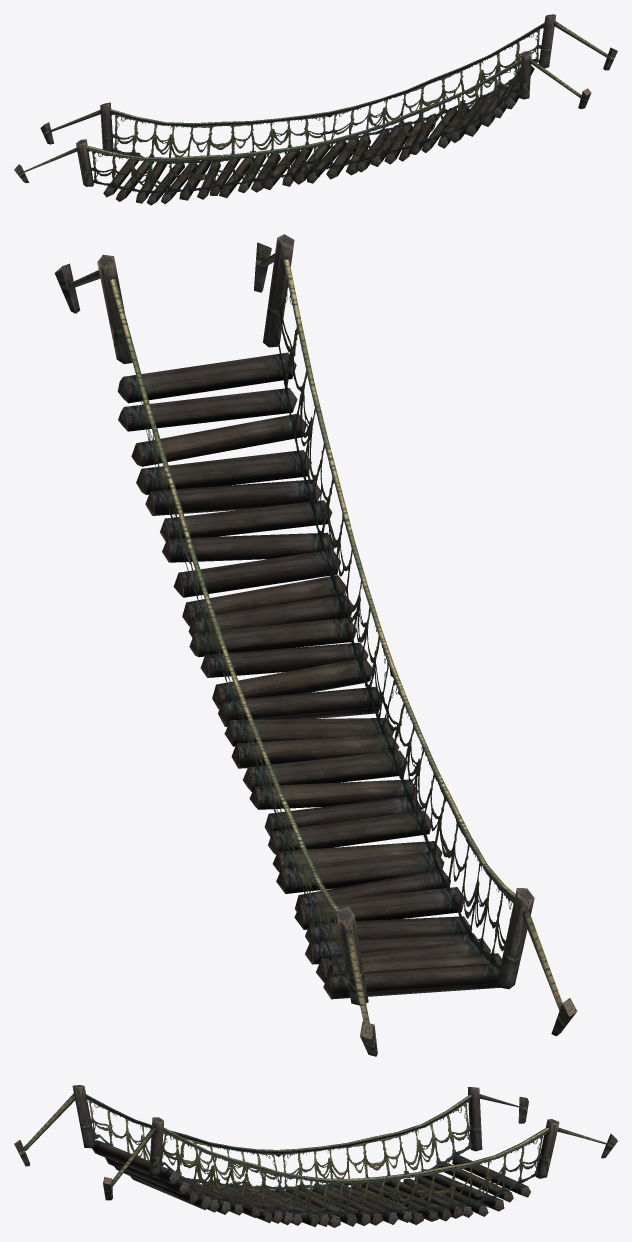
Rendered from cave_bridgediagonal_tansition_02.fbx.
3 renders of one model, top to bottom at view 1: azimuth 30°, elevation 25°; view 2: azimuth 150°, elevation 25°; view 3: azimuth 270°, elevation 25°, orthographic. The views are drawn at different scales.
Parts seen in each view (by area): view 1: cave_tileset/bridge01_shadow; view 2: cave_tileset/bridge01_shadow; view 3: cave_tileset/bridge01_shadow.
Boxes of the visible parts, x1,y1,x2,y2 form: cave_tileset/bridge01_shadow: (14,14,617,205); cave_tileset/bridge01_shadow: (54,234,577,1056); cave_tileset/bridge01_shadow: (14,1085,617,1227).
Size of the model in its own units: 18.1 by 8 by 18.1.
